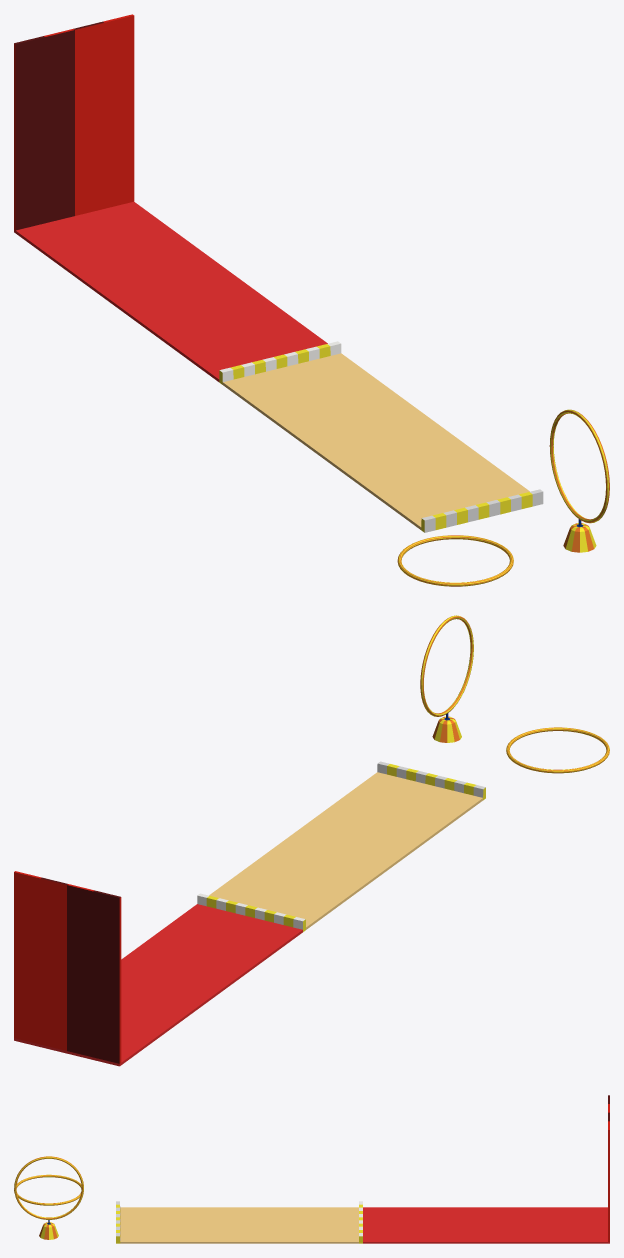
File: Asia Platforms.fbx
3 views of the same model, one above another, from view 1: azimuth 30°, elevation 25°; view 2: azimuth 150°, elevation 25°; view 3: azimuth 270°, elevation 25° (orthographic). The views are drawn at different scales.
Parts seen in each view (by area): view 1: Cube.004, l corner.003, r corner.003, sand fill.006, sand fill.010, sand fill.013, sand fill.009, Cylinder.005, Torus.006; view 2: Cube.004, r corner.003, l corner.003, sand fill.009, sand fill.006, sand fill.010, sand fill.013, Cylinder.005, Torus.006; view 3: r corner.003, l corner.003, sand fill.006, sand fill.009, sand fill.010, sand fill.013, Cylinder.005, Torus.006, Cube.004.
Part boxes in pixels (left/top/right/bottom): Cube.004: left=14, top=14, right=134, bottom=230; l corner.003: left=219, top=341, right=405, bottom=432; r corner.003: left=356, top=451, right=543, bottom=532; sand fill.006: left=288, top=401, right=474, bottom=482; sand fill.010: left=82, top=250, right=268, bottom=332; sand fill.013: left=14, top=201, right=200, bottom=281; sand fill.009: left=151, top=300, right=327, bottom=381; Cylinder.005: left=549, top=409, right=609, bottom=552; Torus.006: left=397, top=535, right=513, bottom=586; Cube.004: left=14, top=871, right=121, bottom=1063; r corner.003: left=320, top=761, right=485, bottom=842; l corner.003: left=197, top=859, right=363, bottom=931; sand fill.009: left=136, top=904, right=302, bottom=976; sand fill.006: left=258, top=814, right=424, bottom=887; sand fill.010: left=121, top=948, right=241, bottom=1021; sand fill.013: left=14, top=1005, right=180, bottom=1066; Cylinder.005: left=420, top=615, right=473, bottom=742; Torus.006: left=506, top=727, right=609, bottom=773; r corner.003: left=116, top=1201, right=198, bottom=1243; l corner.003: left=280, top=1201, right=362, bottom=1243; sand fill.006: left=198, top=1207, right=280, bottom=1243; sand fill.009: left=363, top=1207, right=445, bottom=1243; sand fill.010: left=445, top=1207, right=527, bottom=1243; sand fill.013: left=527, top=1207, right=609, bottom=1243; Cylinder.005: left=14, top=1156, right=83, bottom=1239; Torus.006: left=14, top=1174, right=81, bottom=1205; Cube.004: left=608, top=1095, right=609, bottom=1241.
Bounding box in the file's own units: 327 × 305 × 1448.
